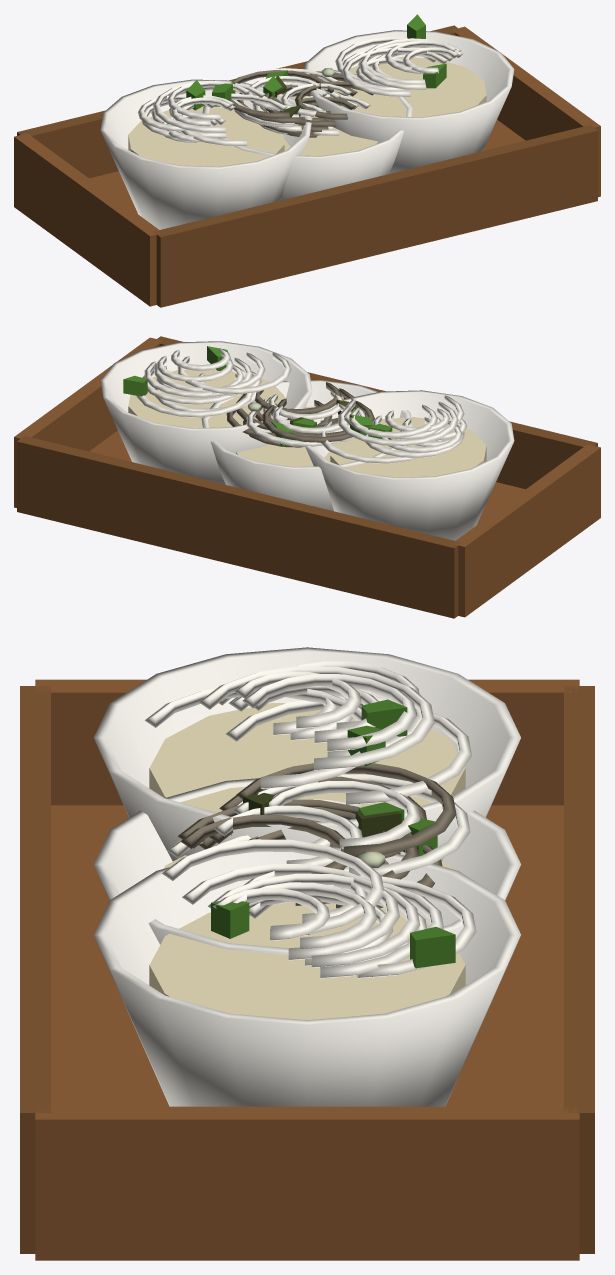
Rendered from Noodle_Plain.fbx.
3 renders of one model, top to bottom at view 1: azimuth 30°, elevation 25°; view 2: azimuth 150°, elevation 25°; view 3: azimuth 270°, elevation 25°, orthographic. The views are drawn at different scales.
Parts seen in each view (by area): view 1: Noodle_Plain__Stack, Noodle_Plain, Noodle_Plain__Rotten; view 2: Noodle_Plain__Stack, Noodle_Plain, Noodle_Plain__Rotten; view 3: Noodle_Plain__Stack, Noodle_Plain, Noodle_Plain__Rotten.
Part boxes in pixels (x1,y1,x2,y2): Noodle_Plain__Stack: (14, 14, 600, 307); Noodle_Plain: (202, 68, 413, 200); Noodle_Plain__Rotten: (230, 68, 373, 137); Noodle_Plain__Stack: (14, 336, 600, 618); Noodle_Plain: (201, 380, 412, 511); Noodle_Plain__Rotten: (226, 382, 374, 447); Noodle_Plain__Stack: (20, 647, 594, 1260); Noodle_Plain: (94, 774, 520, 954); Noodle_Plain__Rotten: (177, 763, 456, 908).
Bounding box in the file's own units: 0.268 × 0.0708 × 0.148.
